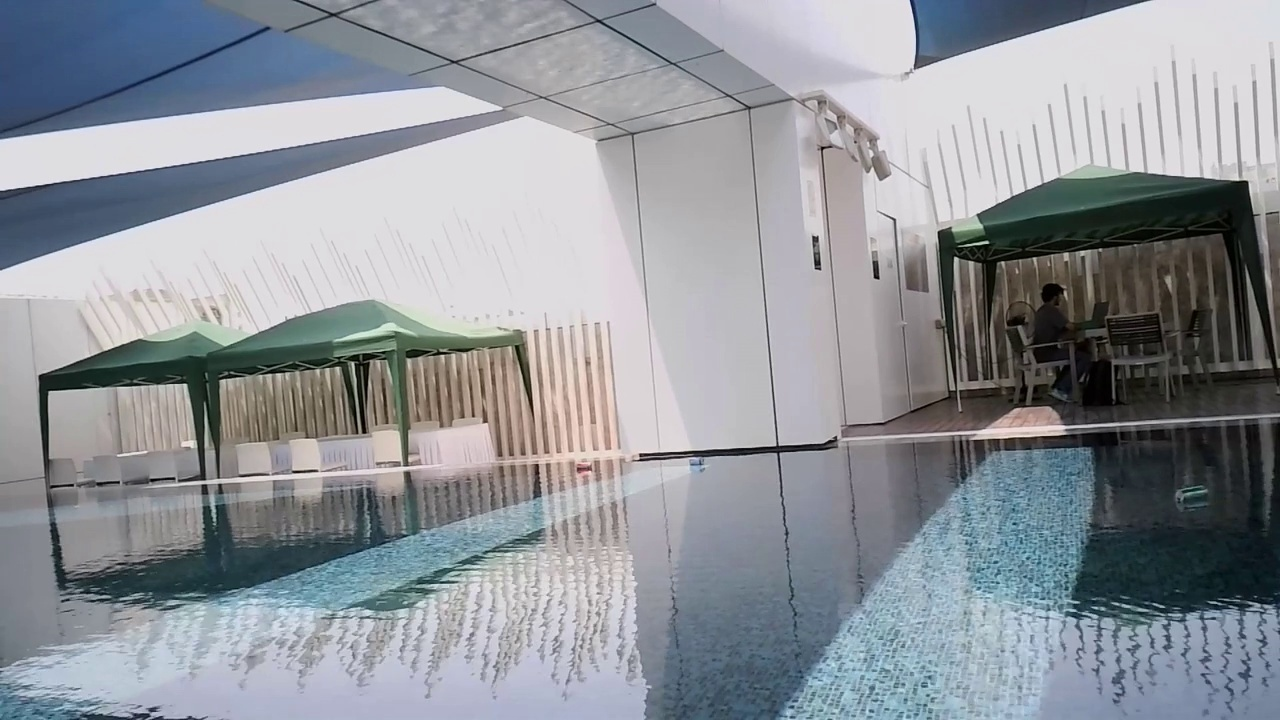debris: (1177, 486, 1212, 513), (686, 450, 708, 472), (572, 459, 595, 476)
